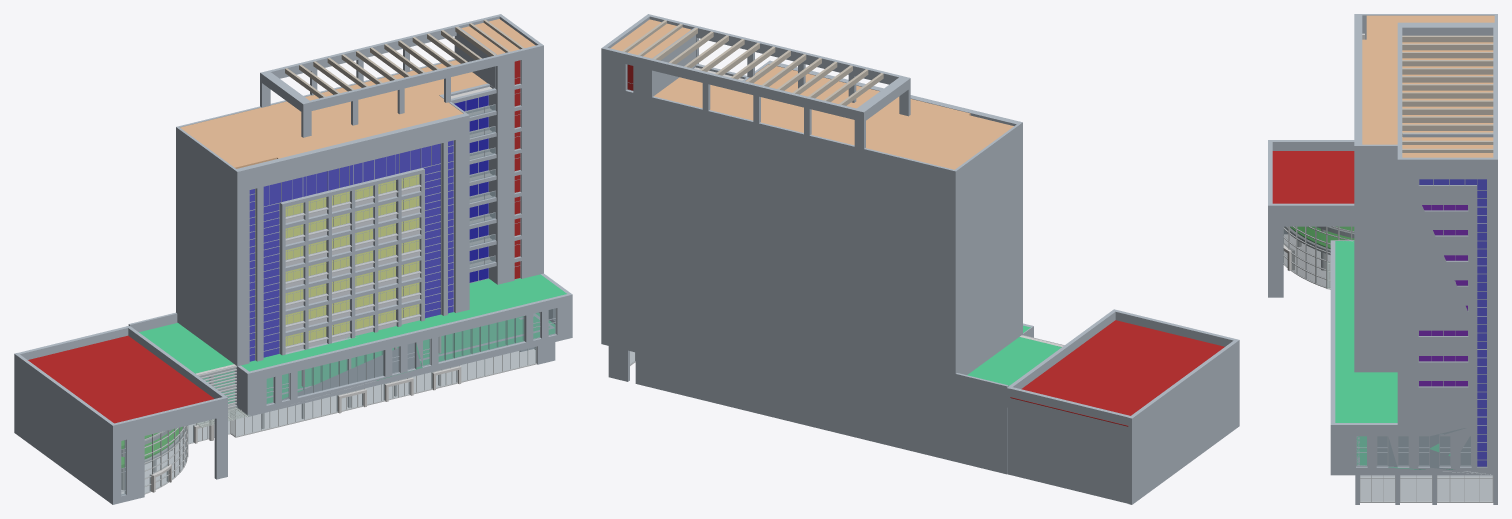
3 renders of one model, left to right at view 1: azimuth 30°, elevation 25°; view 2: azimuth 150°, elevation 25°; view 3: azimuth 270°, elevation 25°, orthographic. The views are drawn at different scales.
Parts seen in each view (by area): view 1: Rectangle03, Line01, Line10, Rectangle04, Rectangle06, Rectangle210, Line13, Rectangle147, Rectangle730, Rectangle204, Rectangle207, Rectangle226 (+33 smaller); view 2: Rectangle558, Rectangle772, Line02, Rectangle04, Line10, Line14, Rectangle210, Line13, Line01, Rectangle730, Rectangle03, Line12 (+5 smaller); view 3: Rectangle01, Rectangle02, Line10, Rectangle660, Rectangle730, Rectangle210, Rectangle206, Rectangle03, Rectangle498, Line12, Rectangle659, Line01 (+28 smaller).
Boxes of the visible parts, x1,y1,x2,y2 form: Rectangle03: [234, 113, 469, 366]; Line01: [301, 44, 543, 284]; Line10: [180, 60, 487, 168]; Rectangle04: [176, 126, 235, 363]; Rectangle06: [245, 293, 572, 416]; Rectangle210: [28, 335, 214, 423]; Line13: [14, 353, 116, 504]; Rectangle147: [285, 174, 419, 346]; Rectangle730: [139, 274, 566, 373]; Rectangle204: [236, 347, 536, 436]; Rectangle207: [203, 312, 555, 403]; Rectangle226: [263, 143, 440, 206]; Rectangle558: [605, 90, 954, 429]; Rectangle772: [635, 352, 1008, 474]; Line02: [601, 47, 865, 309]; Rectangle04: [953, 124, 1019, 374]; Line10: [654, 64, 1013, 169]; Line14: [1007, 387, 1129, 503]; Rectangle210: [1010, 320, 1224, 426]; Line13: [1128, 339, 1239, 504]; Line01: [646, 14, 910, 116]; Rectangle730: [967, 325, 1061, 385]; Rectangle03: [766, 60, 1022, 336]; Line12: [1007, 311, 1115, 408]; Rectangle01: [1402, 157, 1497, 424]; Rectangle02: [1362, 144, 1397, 372]; Line10: [1362, 15, 1494, 144]; Rectangle660: [1335, 423, 1497, 475]; Rectangle730: [1335, 241, 1397, 422]; Rectangle210: [1272, 151, 1354, 203]; Rectangle206: [1360, 471, 1492, 501]; Rectangle03: [1354, 14, 1362, 372]; Rectangle498: [1419, 179, 1486, 466]; Line12: [1272, 203, 1354, 297]; Rectangle659: [1356, 428, 1470, 469]; Line01: [1397, 22, 1402, 424].
Bounding box in the file's own units: 84900 × 50000 × 29800.
